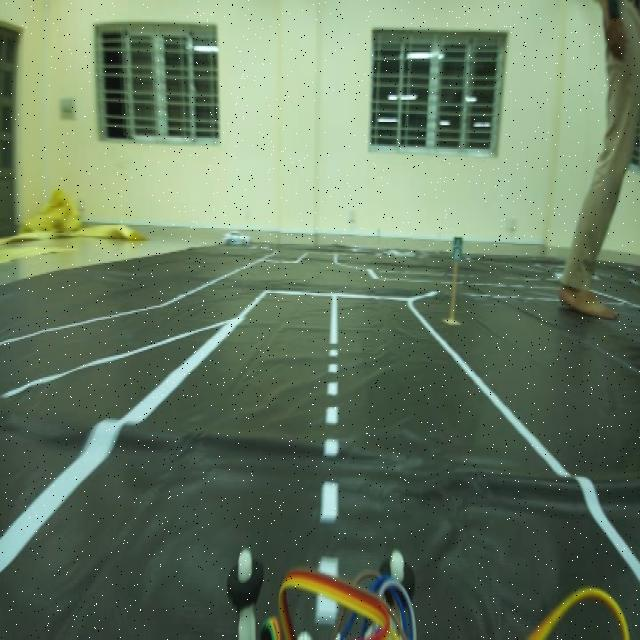highway_entry: (448, 230, 467, 272)
